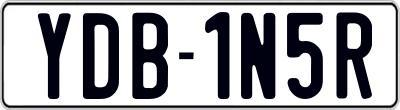1: (202, 9, 228, 96)
5: (284, 11, 324, 103)
B: (129, 10, 167, 98)
D: (82, 11, 119, 102)
N: (238, 11, 272, 102)
R: (335, 11, 375, 102)
Y: (37, 10, 72, 101)
